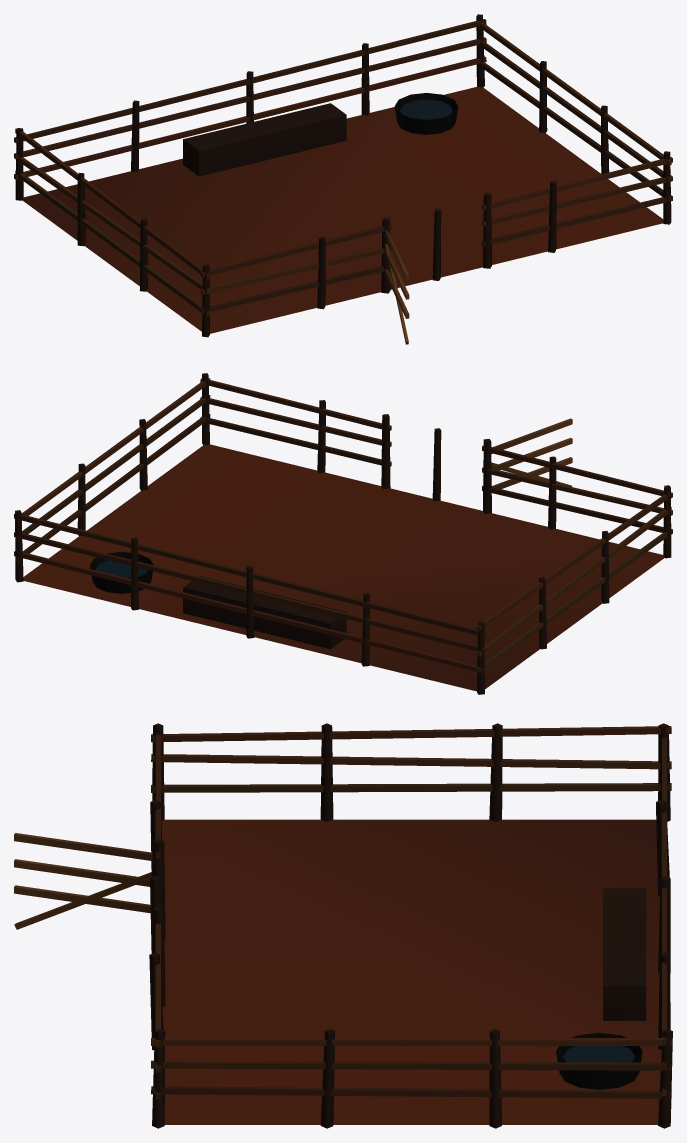
File: fm_pen_lod1.glb
3 views of the same model, one above another, from view 1: azimuth 30°, elevation 25°; view 2: azimuth 150°, elevation 25°; view 3: azimuth 270°, elevation 25° (orthographic). The views are drawn at different scales.
Visible parts, largest first — view 1: fm_pen_lod1; view 2: fm_pen_lod1; view 3: fm_pen_lod1.
Part boxes in pixels (left/top/right/bottom): fm_pen_lod1: left=14, top=14, right=672, bottom=344; fm_pen_lod1: left=14, top=373, right=672, bottom=694; fm_pen_lod1: left=14, top=723, right=672, bottom=1128.
Size of the model in its own units: 10.2 by 1.65 by 9.12.
